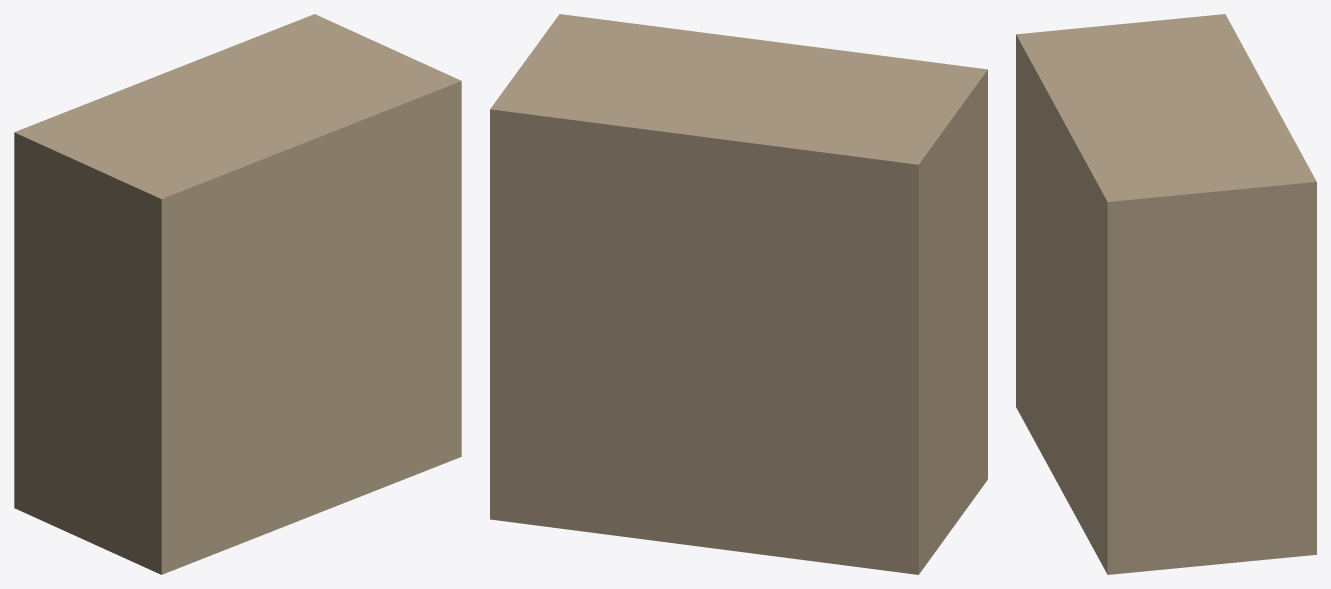
File: bld_107625359.dae
3 views of the same model, side by side, from view 1: azimuth 30°, elevation 25°; view 2: azimuth 150°, elevation 25°; view 3: azimuth 270°, elevation 25° (orthographic). The views are drawn at different scales.
Parts seen in each view (by area): view 1: bld_107625359; view 2: bld_107625359; view 3: bld_107625359.
Part boxes in pixels (bbox=[...]): bld_107625359: bbox=[14, 14, 461, 574]; bld_107625359: bbox=[490, 14, 987, 574]; bld_107625359: bbox=[1016, 14, 1316, 574].
Size of the model in its own units: 8.65 by 5.85 by 8.
